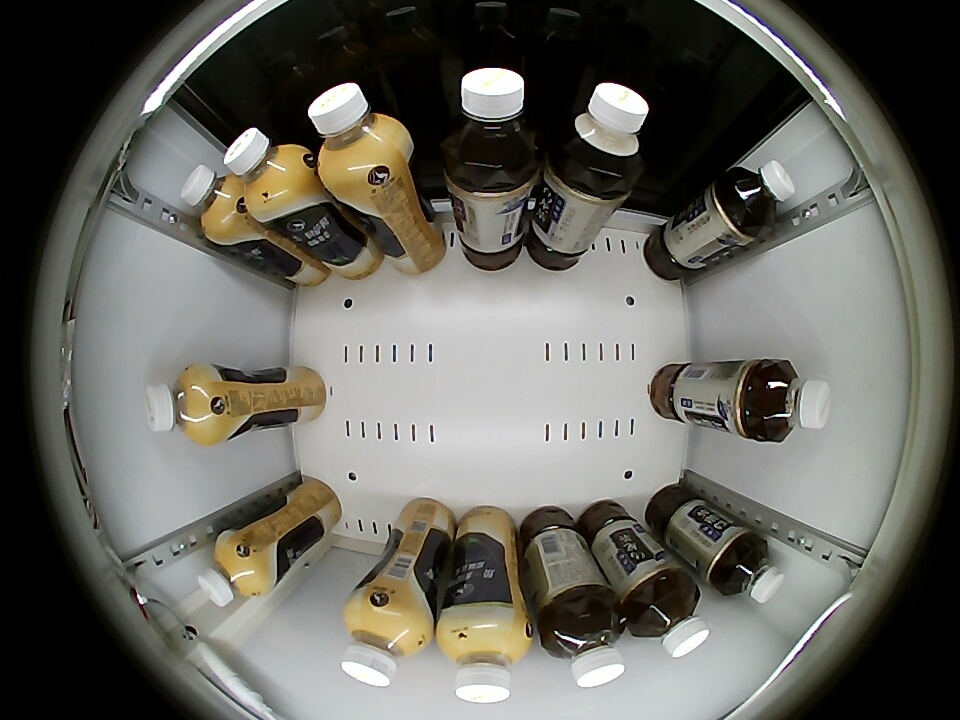asamu: (308, 81, 408, 185), (438, 614, 533, 704), (341, 598, 429, 688), (223, 127, 312, 210), (144, 364, 224, 444), (180, 164, 246, 239), (197, 535, 265, 607)
wulongcha: (439, 66, 542, 182), (550, 81, 649, 189), (542, 601, 626, 689), (629, 574, 710, 659), (751, 359, 832, 443), (726, 160, 796, 232), (715, 533, 785, 604)
